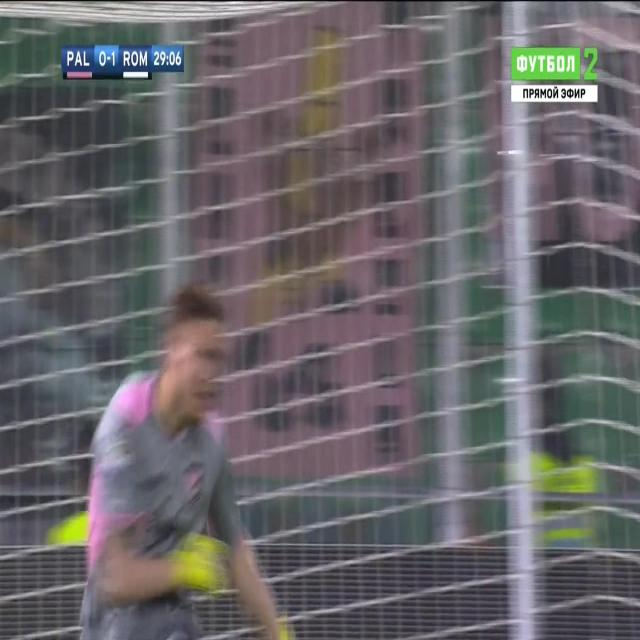Goalkeeper: (75, 292, 310, 639)
